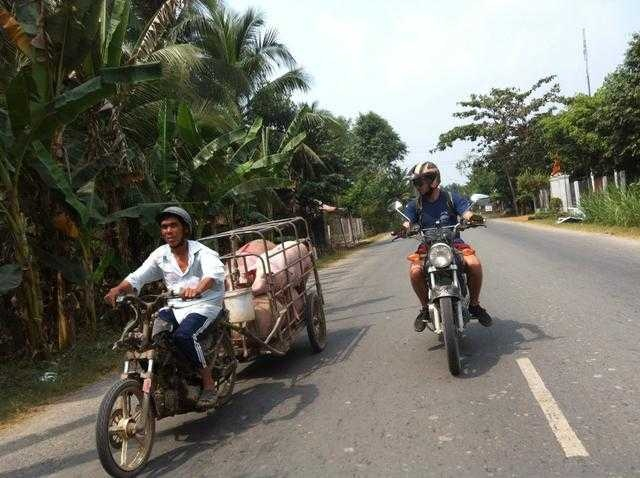motorbike: (95, 290, 237, 478), (388, 194, 491, 379)
